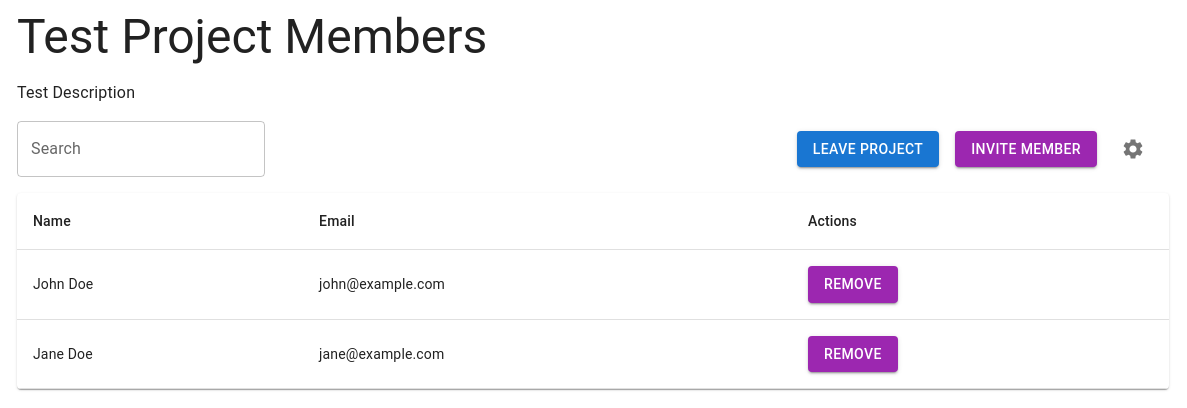
TeamMembers Component › search functionality works
This screenshot has width=1187, height=408.
Expected: the text "John Doe" is shown, [17,250,303,319]
Expected: the text "Jane Doe" is shown, [17,319,303,388]
In the field labelled "Search": (141, 149) [17,121,265,177], type "John"
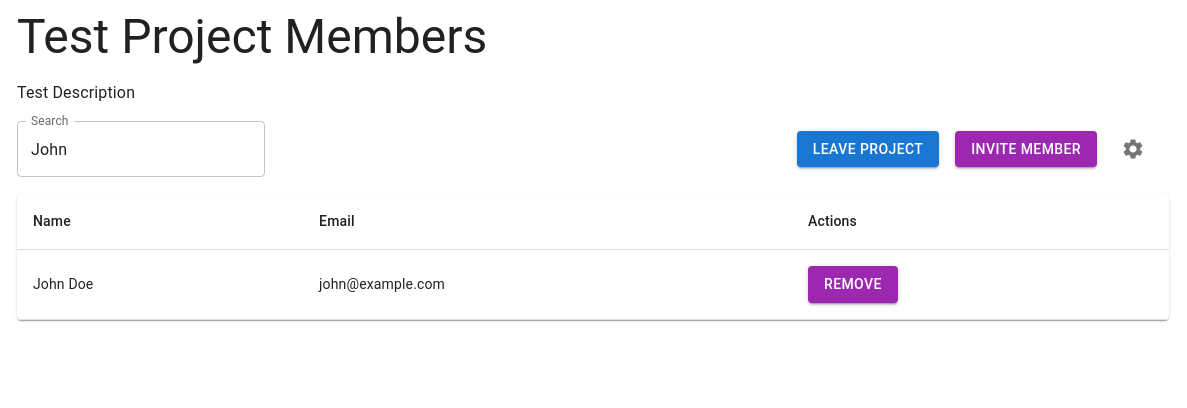
Expected: the text "John Doe" is shown, [17,250,303,319]
Expected: the text "Jane Doe" is gone
